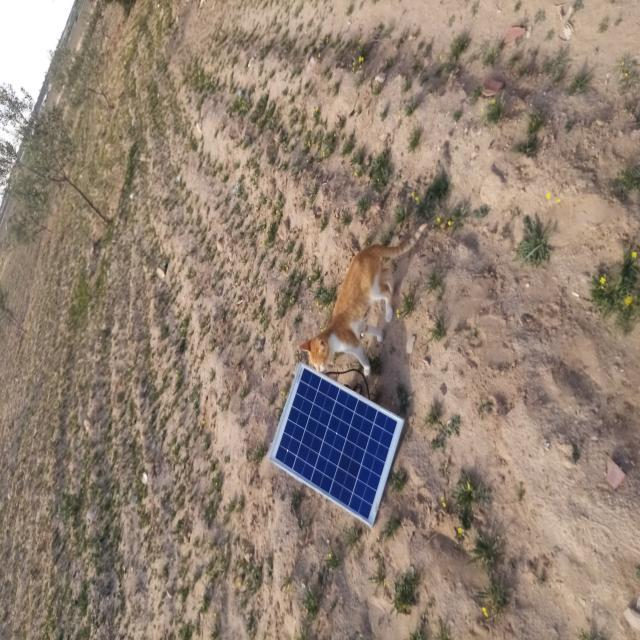no faulty: (269, 363, 403, 525)
